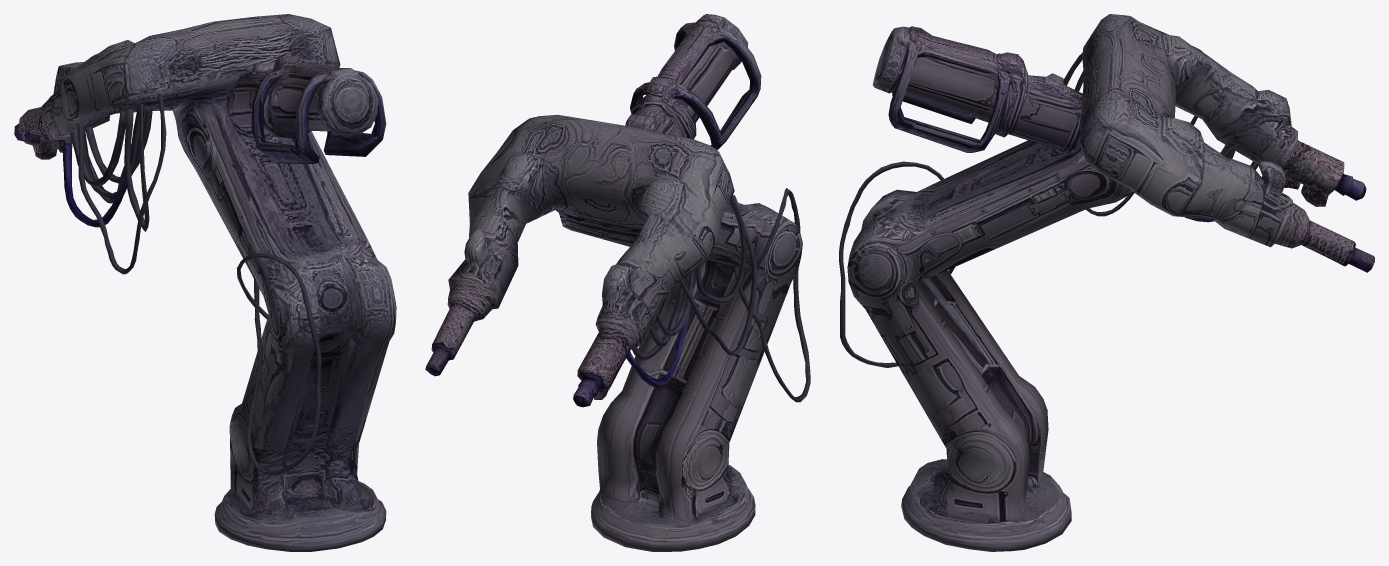
Rendered from tripo_convert_650eaf5f-a856-4077-9a63-b94b9c5ff94e.fbx.
3 views of the same model, side by side, from view 1: azimuth 30°, elevation 25°; view 2: azimuth 150°, elevation 25°; view 3: azimuth 270°, elevation 25° (orthographic). The views are drawn at different scales.
Visible parts, largest first — view 1: tripo_node_650eaf5f; view 2: tripo_node_650eaf5f; view 3: tripo_node_650eaf5f.
Part boxes in pixels (left/top/right/bottom): tripo_node_650eaf5f: left=14, top=14, right=396, bottom=551; tripo_node_650eaf5f: left=425, top=14, right=810, bottom=551; tripo_node_650eaf5f: left=839, top=14, right=1374, bottom=551.
Bounding box in the file's own units: 0.5137 × 0.998 × 0.9941.
1 material, 1 textured.
